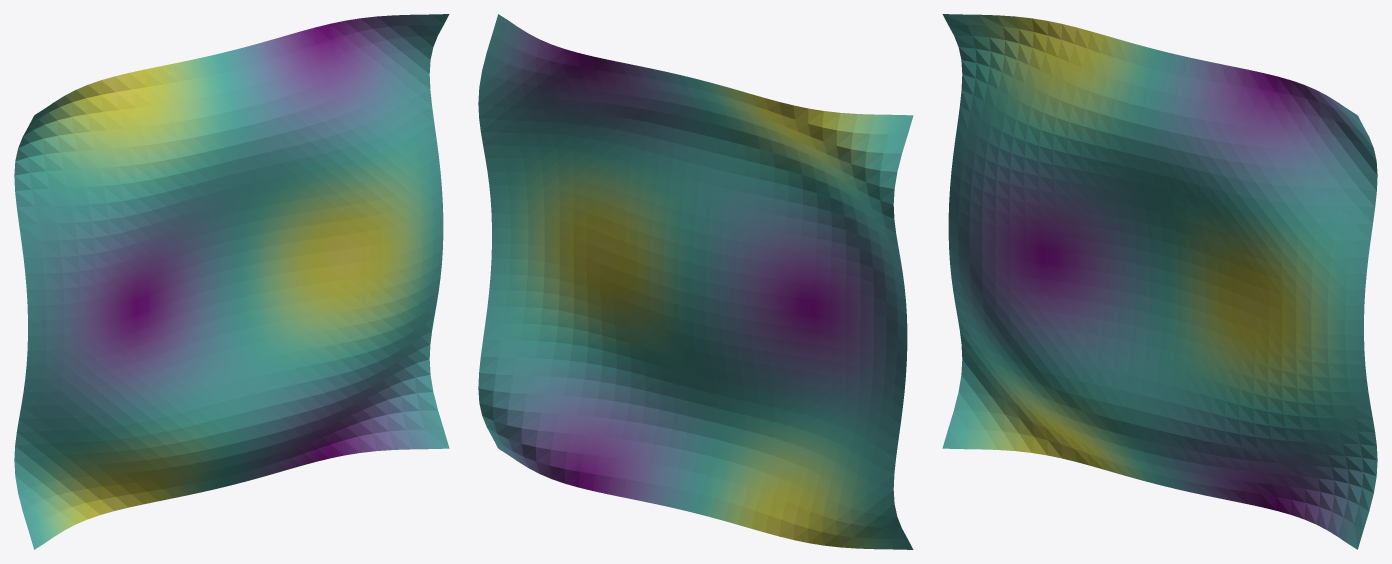
File: meshSurfaceFromNotebook.glb
3 views of the same model, side by side, from view 1: azimuth 30°, elevation 25°; view 2: azimuth 150°, elevation 25°; view 3: azimuth 330°, elevation 25° (orthographic).
Parts seen in each view (by area): view 1: world; view 2: world; view 3: world.
Boxes of the visible parts, x1=… form: world: x1=14, y1=14, x2=449, y2=549; world: x1=478, y1=14, x2=913, y2=549; world: x1=942, y1=14, x2=1377, y2=549.
Size of the model in its own units: 2 by 2 by 0.2.
